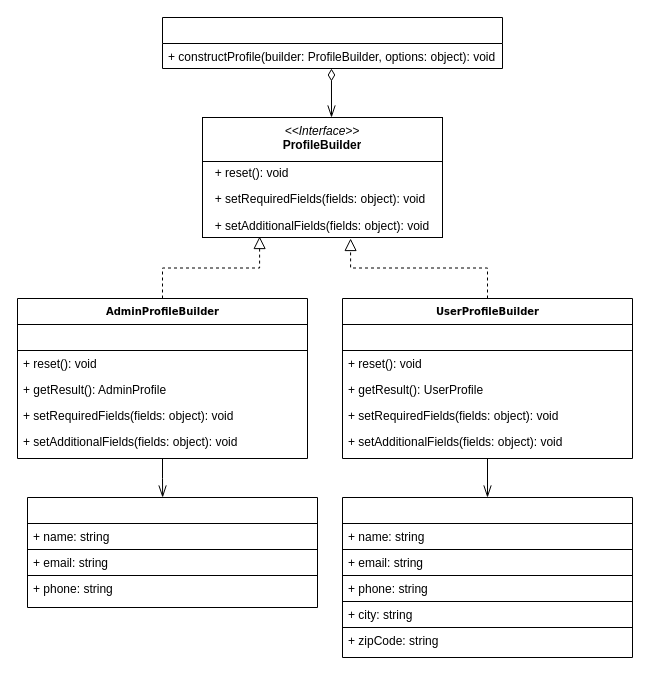
The diagram is 650 pixels wide and 678 high, and some of its shapes have lost their labels. The box of each missing label's shape, as (x1, y1, x2, y2) in pixels:
- profile: AdminProfile: (16, 324, 308, 350)
- profile: UserProfile: (342, 324, 632, 350)
AdminProfile: (26, 496, 318, 608)
ProfileDirector: (162, 16, 502, 68)
UserProfile: (342, 496, 632, 658)
